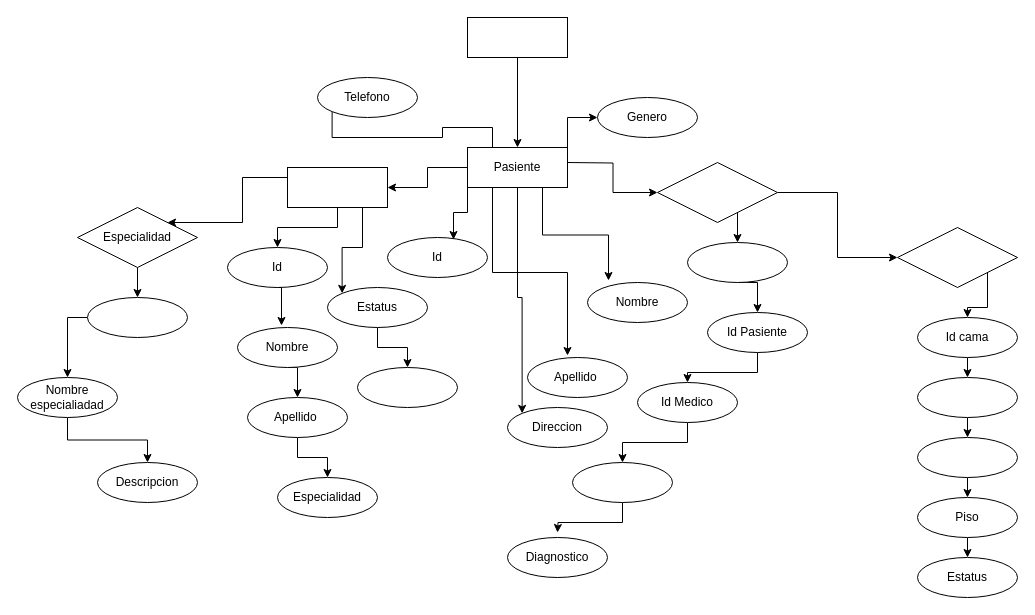
Image size: 1035x615. Some labels were removed from this diagram. The centre of each missing label's shape, as x and y in pixels:
"Area" belongs at (967,457).
"Cama" belongs at (957,257).
"Consulta" belongs at (717,192).
"fecha y hora" belongs at (622,482).
"HOSPITAL" belongs at (517,37).
"Id Consulta" belongs at (737,262).
"Id especialidad" belongs at (137,317).
"Medico" belongs at (337,187).
"N. cama" belongs at (967,397).
"N. Licencia" belongs at (407,387).
